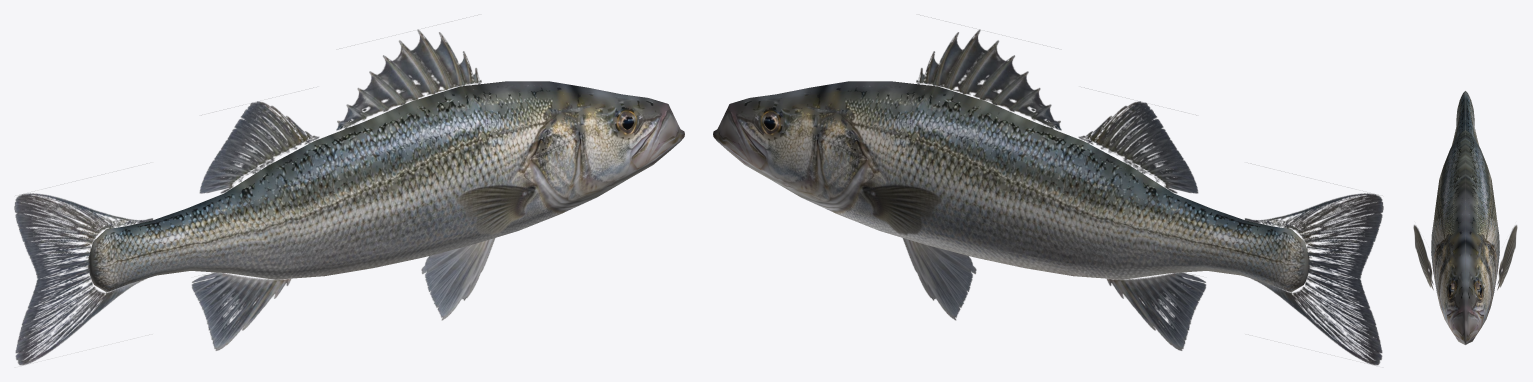
File: suzuki_lo.glb
3 views of the same model, side by side, from view 1: azimuth 30°, elevation 25°; view 2: azimuth 150°, elevation 25°; view 3: azimuth 270°, elevation 25° (orthographic). The views are drawn at different scales.
Parts seen in each view (by area): view 1: suzuki; view 2: suzuki; view 3: suzuki.
Part boxes in pixels (x1,y1,x2,y2): suzuki: [14, 29, 684, 365]; suzuki: [713, 29, 1383, 365]; suzuki: [1413, 91, 1517, 344].
Bounding box in the file's own units: 0.6009 × 0.2542 × 0.1083.
Materials: 1 (1 with a texture image).
